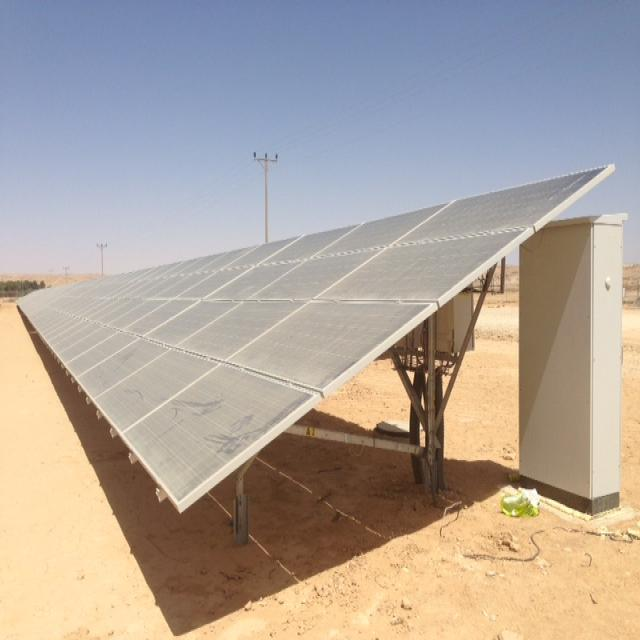dust-solar-panel: (15, 168, 611, 511)
